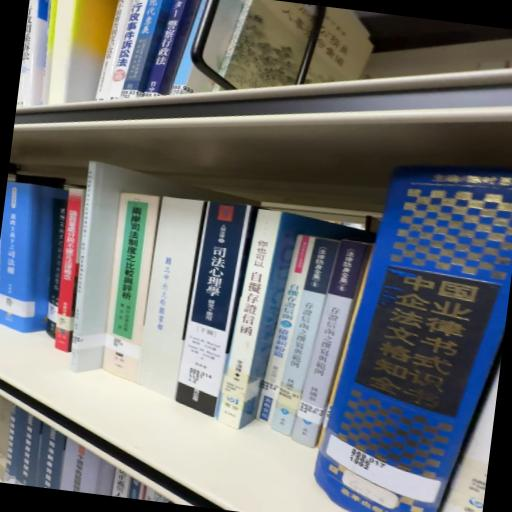backward: (134, 201, 204, 411)
book: (176, 205, 257, 426), (1, 179, 71, 333)
